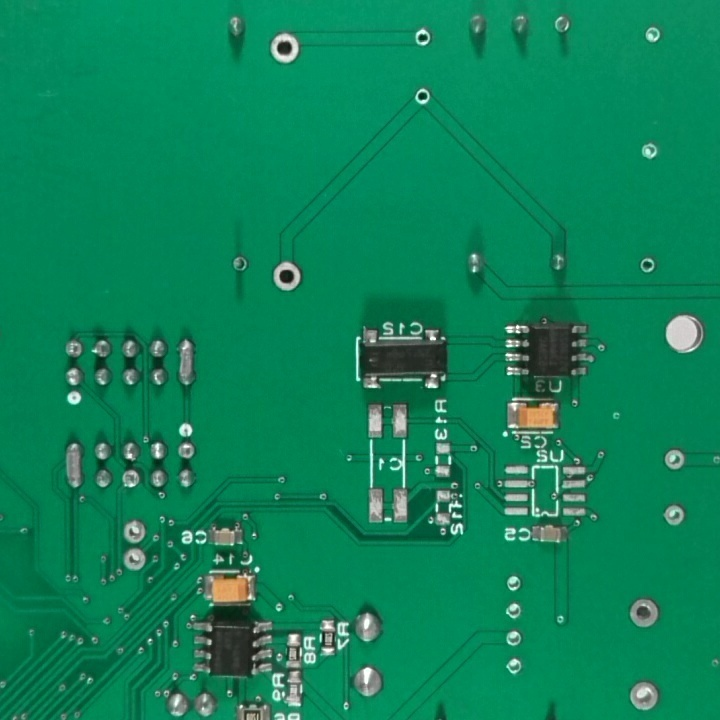F: (264, 28, 310, 66), (626, 675, 662, 712), (270, 258, 305, 295), (627, 595, 661, 630), (119, 517, 150, 547), (657, 503, 689, 529), (121, 548, 149, 575), (548, 12, 578, 36), (662, 448, 688, 473), (229, 253, 254, 278), (639, 138, 662, 165), (63, 337, 87, 361), (412, 26, 433, 52), (504, 656, 526, 680), (177, 439, 196, 466), (501, 575, 525, 596), (414, 86, 433, 112), (120, 469, 142, 491), (641, 23, 662, 46), (638, 256, 660, 277), (504, 601, 523, 621), (504, 629, 521, 650)
P: (62, 436, 87, 497), (173, 335, 198, 390)
